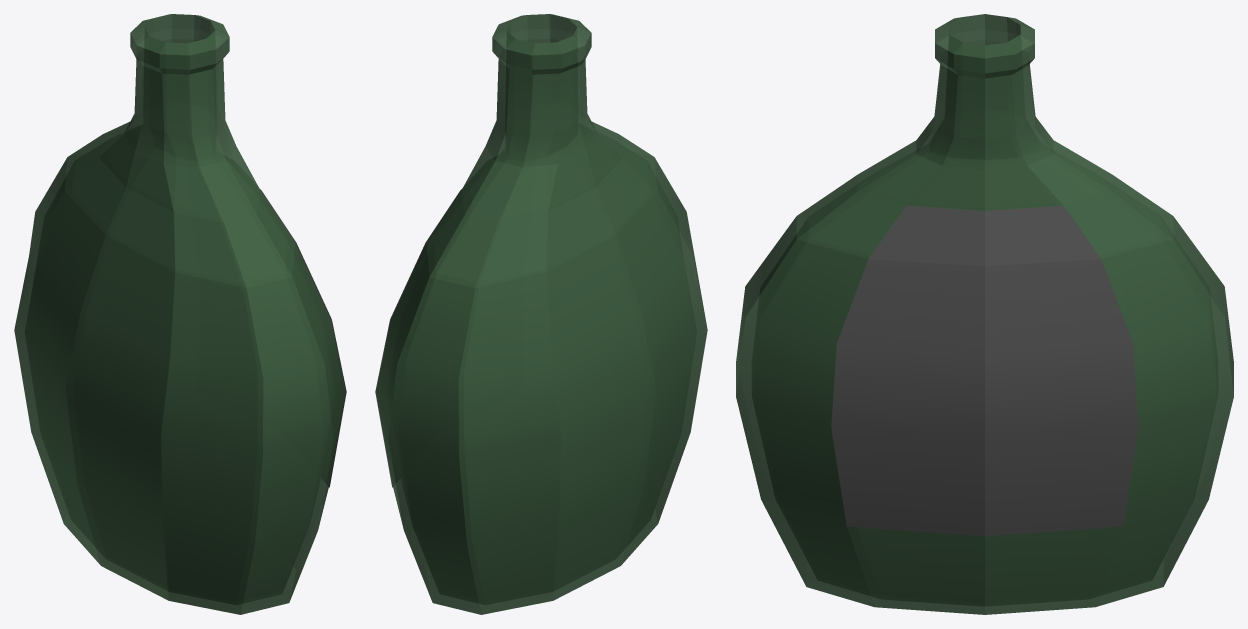
The model's file is RoundBottle.fbx.
3 views of the same model, side by side, from view 1: azimuth 30°, elevation 25°; view 2: azimuth 150°, elevation 25°; view 3: azimuth 270°, elevation 25° (orthographic). The views are drawn at different scales.
Visible parts, largest first — view 1: RoundBottle, RoundBottleLabel; view 2: RoundBottle, RoundBottleLabel; view 3: RoundBottle, RoundBottleLabel.
Part boxes in pixels (<box>): RoundBottle: <box>14,14,345,614</box>; RoundBottleLabel: <box>259,188,346,487</box>; RoundBottle: <box>376,14,707,614</box>; RoundBottleLabel: <box>375,188,462,487</box>; RoundBottle: <box>736,14,1233,614</box>; RoundBottleLabel: <box>831,205,1138,536</box>.
Bounding box in the file's own units: 2.33 × 5.03 × 4.16.
